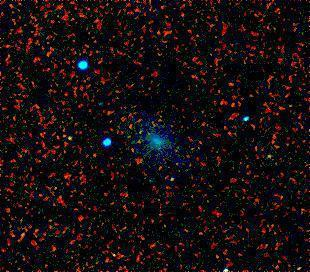star: (154, 165, 184, 195)
